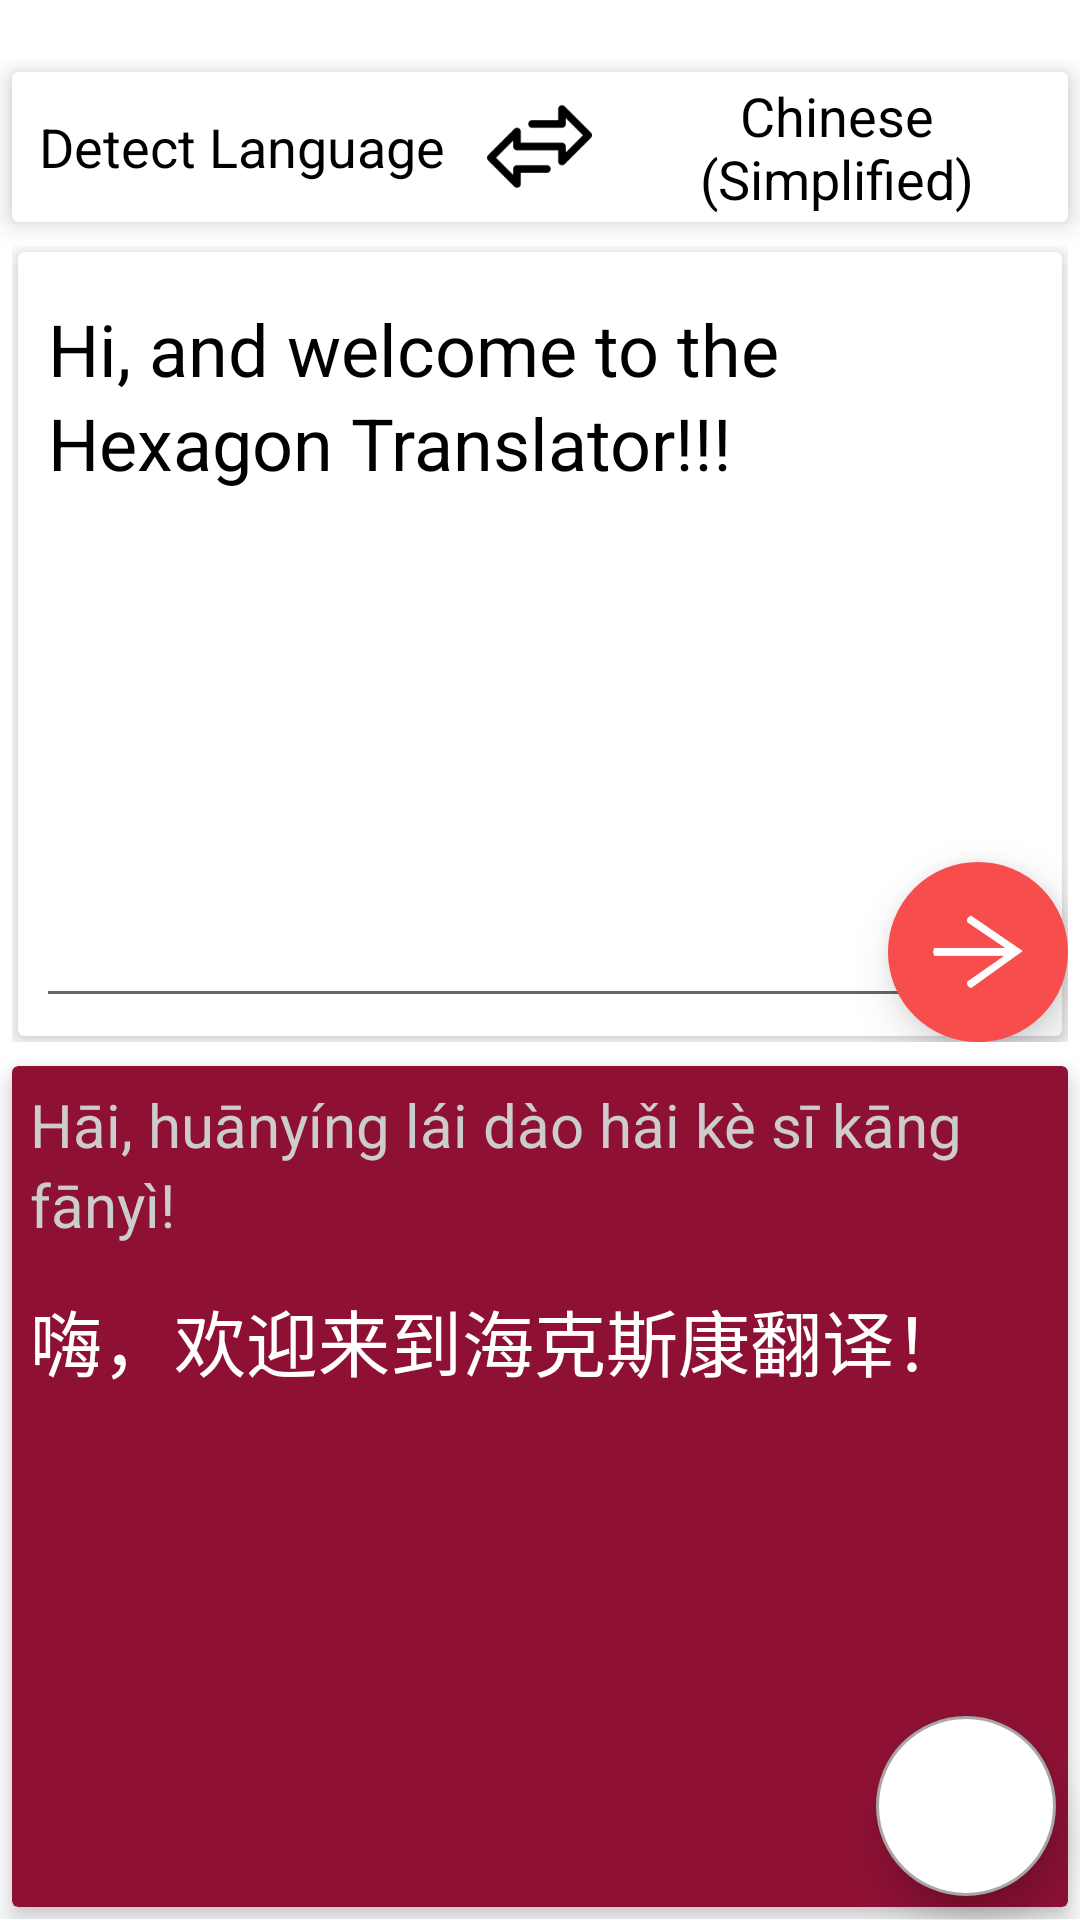

Screen size 1080×1920. Icon name, then its box in pixels as (x1, y1, x2, y2):
forward: (888, 862, 1068, 1042)
transfer: (487, 105, 592, 188)
